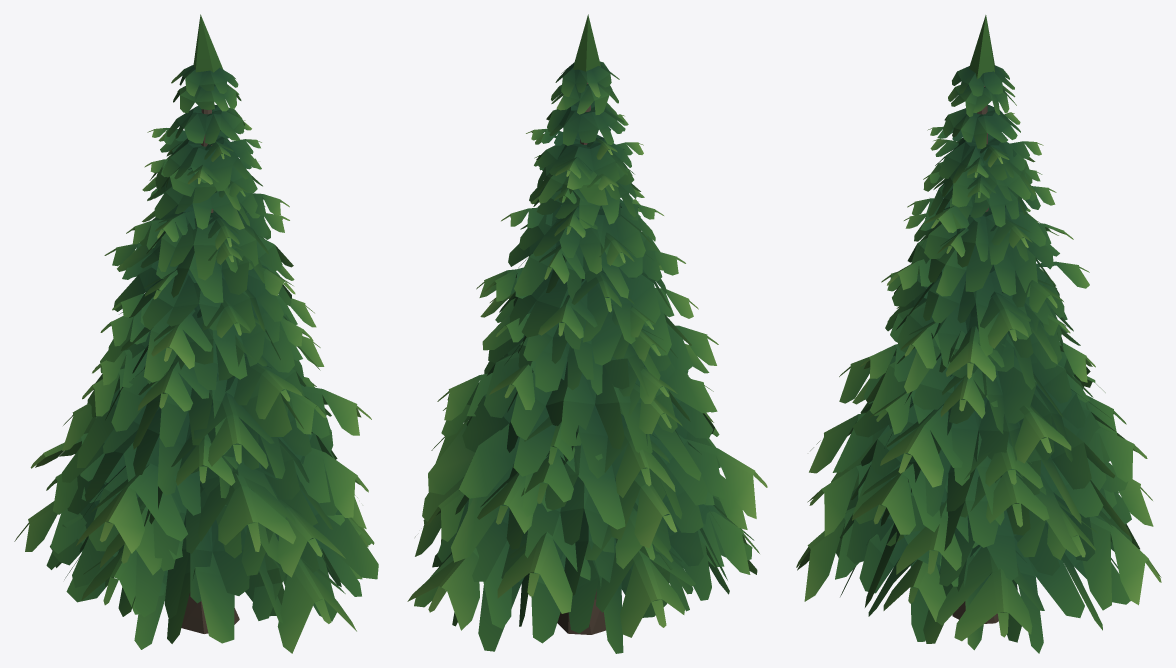
Rendered from spruce_L_normal_std_s42.glb.
The picture shows the model from 3 angles, left to right: view 1: azimuth 30°, elevation 25°; view 2: azimuth 150°, elevation 25°; view 3: azimuth 270°, elevation 25°; orthographic projection. The views are drawn at different scales.
Parts seen in each view (by area): view 1: Tree; view 2: Tree; view 3: Tree.
Boxes of the visible parts, <box> form: Tree: <box>14,14,378,653</box>; Tree: <box>407,14,767,653</box>; Tree: <box>796,15,1161,653</box>.
Size of what is drawn, in the model's own units: 4.27 by 8 by 4.45.
